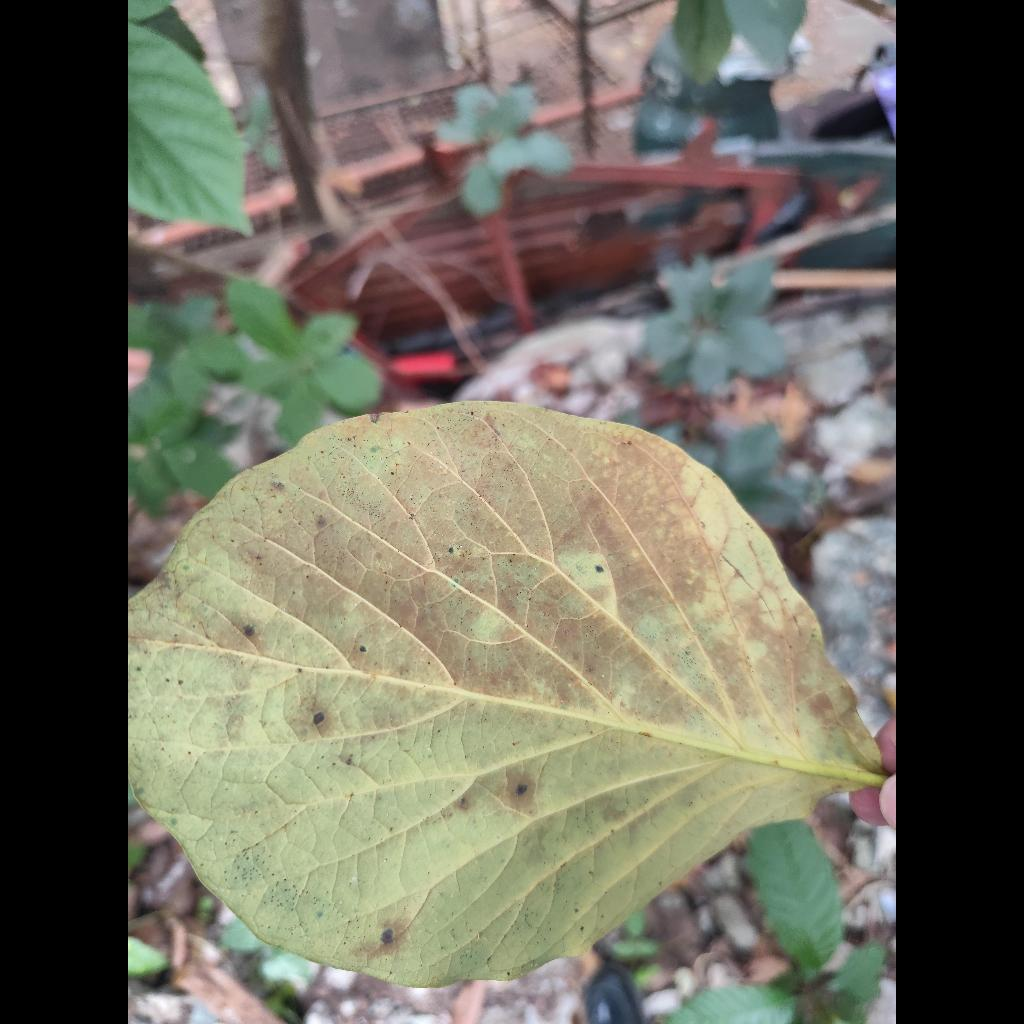antracnosis_hoja: (128, 402, 882, 986)
